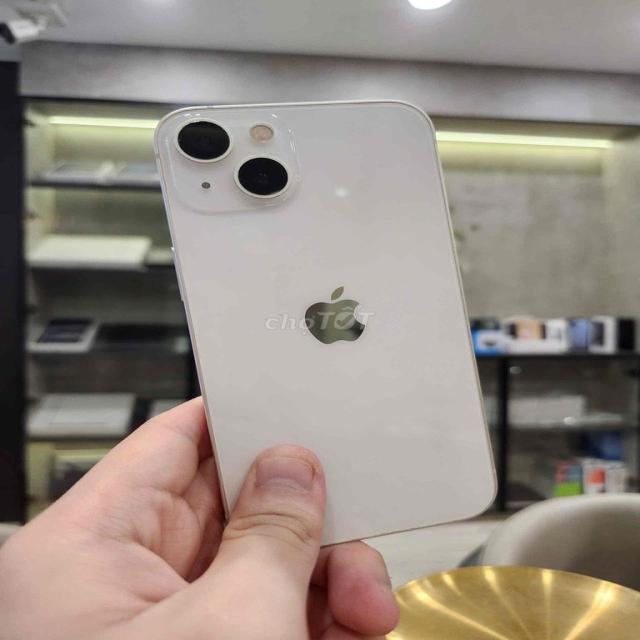gen_12_13: (142, 93, 504, 551)
